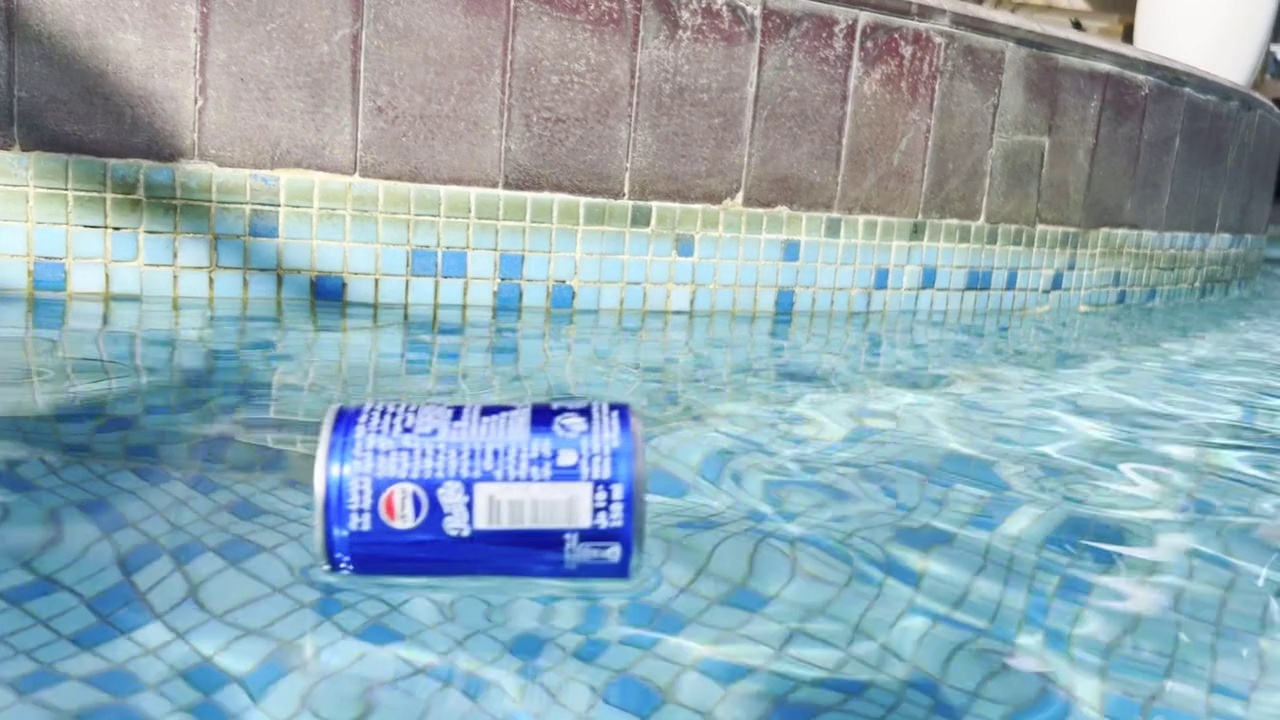debris: (307, 384, 655, 587)
